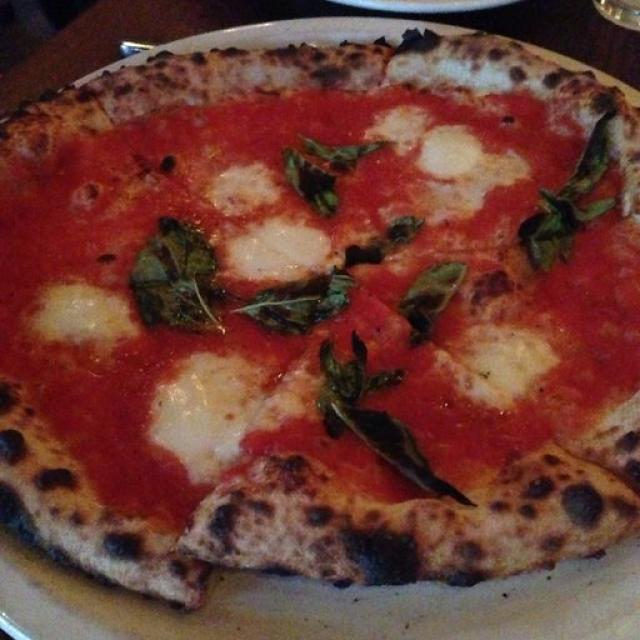Basil: (321, 336, 472, 498), (518, 110, 613, 278), (134, 209, 220, 334), (282, 137, 391, 210), (249, 272, 349, 334), (402, 262, 455, 340), (345, 213, 411, 270)
Pizza: (0, 29, 640, 610)
